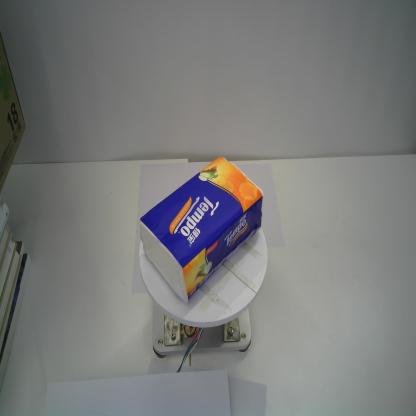Tissue: (138, 155, 263, 308)
